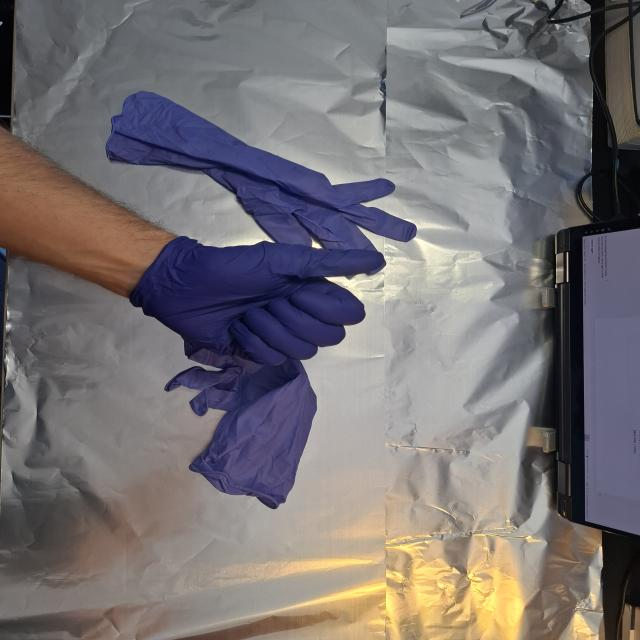glove_on: (130, 234, 388, 370)
